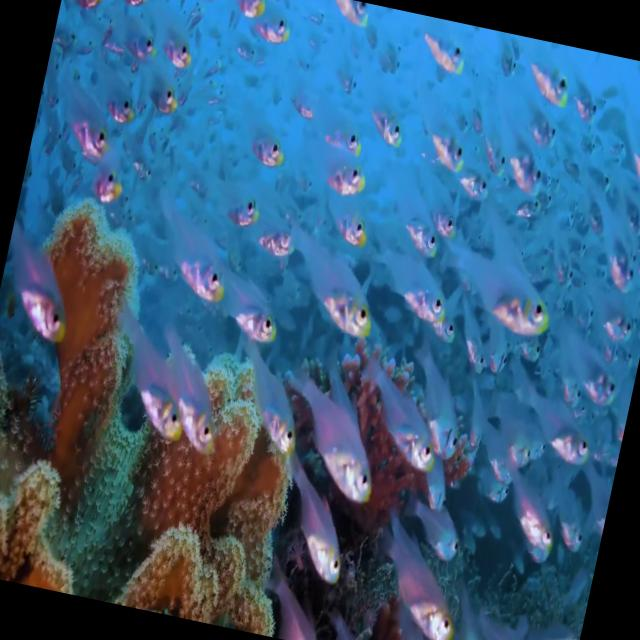fish: (268, 344, 400, 502), (422, 212, 559, 338), (261, 436, 370, 588), (284, 222, 402, 353), (360, 512, 479, 640), (345, 346, 455, 480), (136, 324, 240, 462), (0, 202, 101, 342), (501, 362, 612, 472), (228, 337, 322, 462), (144, 198, 242, 315), (393, 333, 482, 460), (103, 333, 200, 448), (255, 536, 347, 640), (532, 319, 632, 404), (458, 384, 547, 474), (374, 242, 462, 332), (292, 180, 384, 264), (42, 79, 121, 176), (210, 261, 294, 350), (489, 464, 567, 558), (476, 107, 556, 198), (400, 468, 474, 559), (408, 16, 488, 95), (404, 104, 476, 190), (384, 172, 448, 260), (204, 170, 274, 244), (515, 50, 582, 126), (455, 585, 546, 640), (408, 153, 466, 239), (535, 472, 594, 556), (362, 88, 421, 163), (317, 146, 383, 212), (105, 134, 168, 202), (445, 145, 501, 216), (137, 52, 189, 128), (312, 101, 373, 164), (143, 15, 202, 80), (601, 114, 640, 210), (313, 0, 383, 53), (111, 10, 167, 76), (561, 72, 613, 136), (266, 66, 313, 134), (237, 120, 292, 178), (91, 72, 142, 134), (594, 234, 640, 295), (250, 0, 293, 57), (524, 606, 584, 640), (227, 0, 276, 38), (165, 0, 245, 22), (58, 0, 108, 21), (631, 60, 640, 99)
